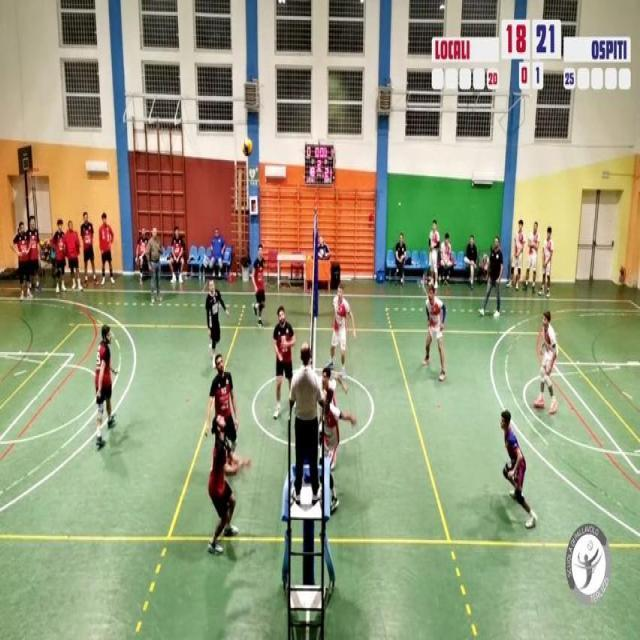volleyball: (242, 139, 252, 156)
